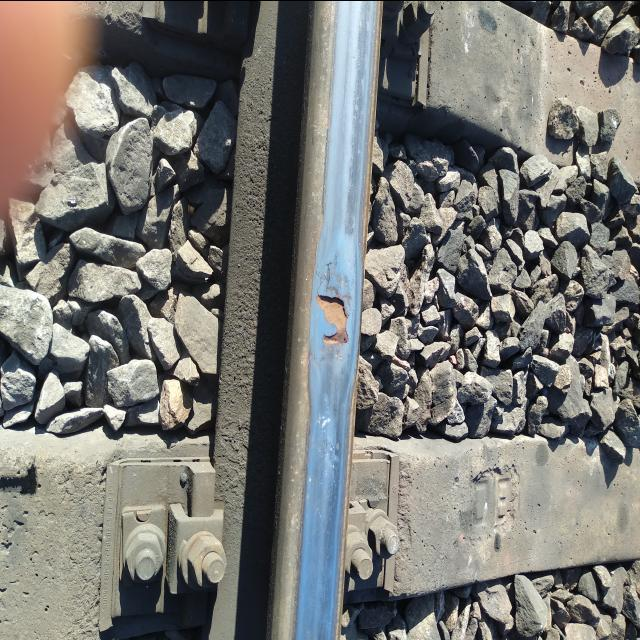broken_rail_medium: (315, 293, 351, 347)
head_checks_high: (303, 230, 365, 426)
